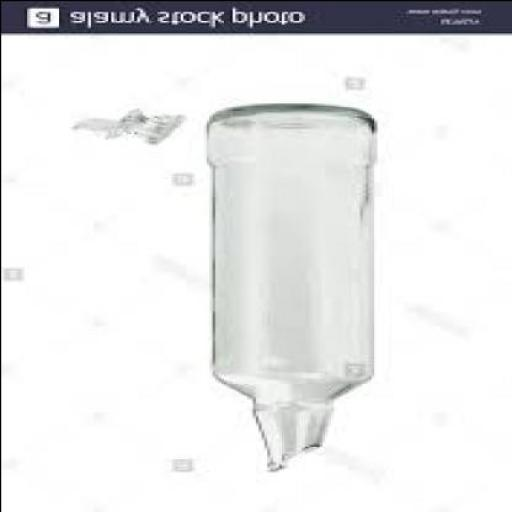glass: (205, 103, 373, 472), (69, 106, 182, 148)
